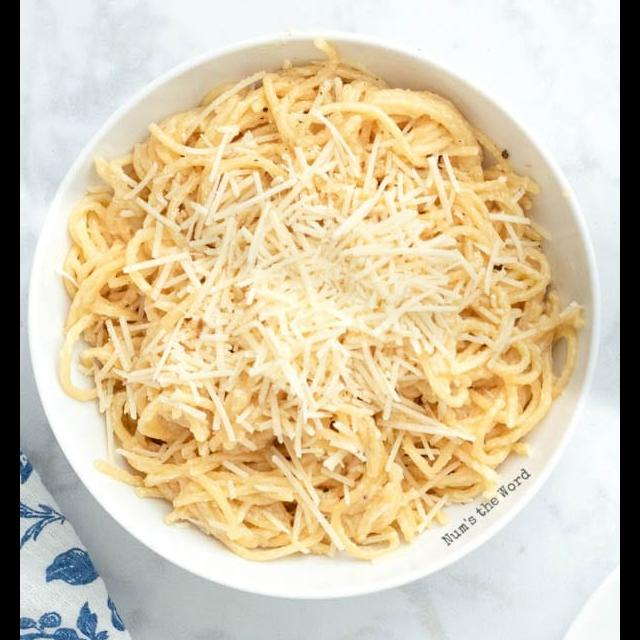noodles: (58, 39, 587, 561)
